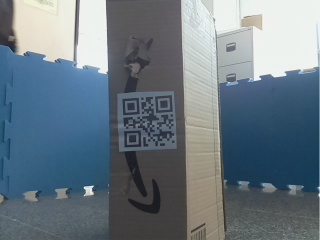caja_rota: (107, 1, 225, 239)
